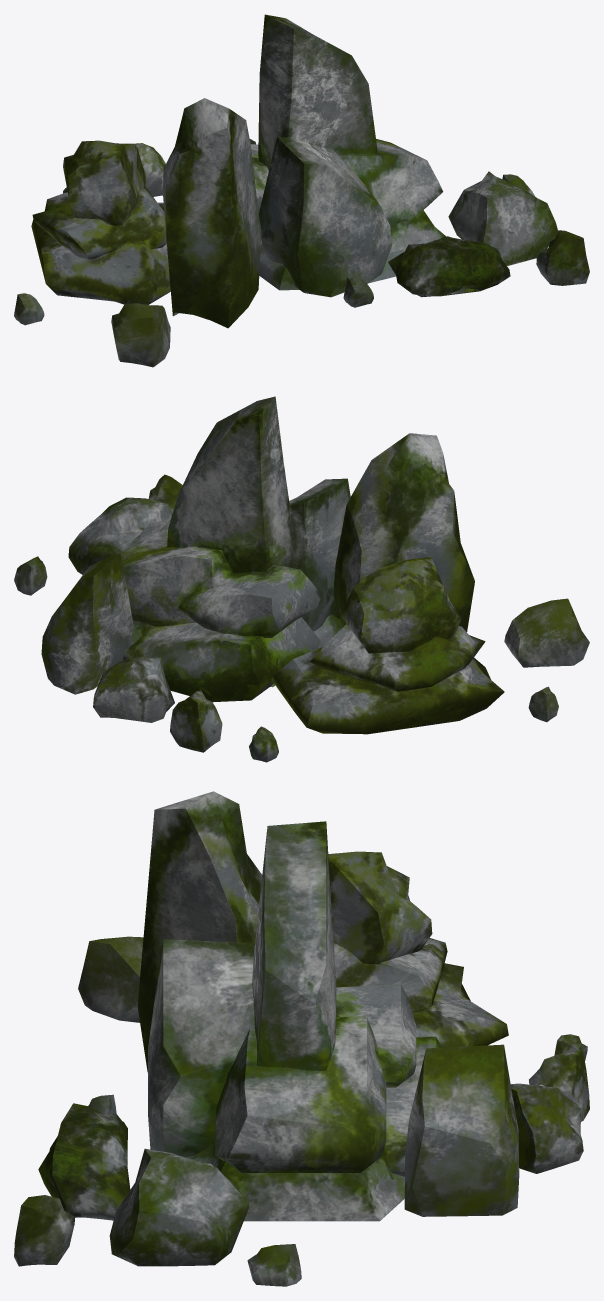
Rendered from mossy_rocks_low_poly.glb.
3 renders of one model, top to bottom at view 1: azimuth 30°, elevation 25°; view 2: azimuth 150°, elevation 25°; view 3: azimuth 270°, elevation 25°, orthographic. The views are drawn at different scales.
Visible parts, largest first — view 1: Rock01; view 2: Rock01; view 3: Rock01.
Part boxes in pixels (bbox=[...]): Rock01: bbox=[14, 14, 589, 367]; Rock01: bbox=[14, 396, 589, 762]; Rock01: bbox=[14, 791, 589, 1286].
Bounding box in the file's own units: 1871 × 841 × 1379.
1 material, 1 textured.
